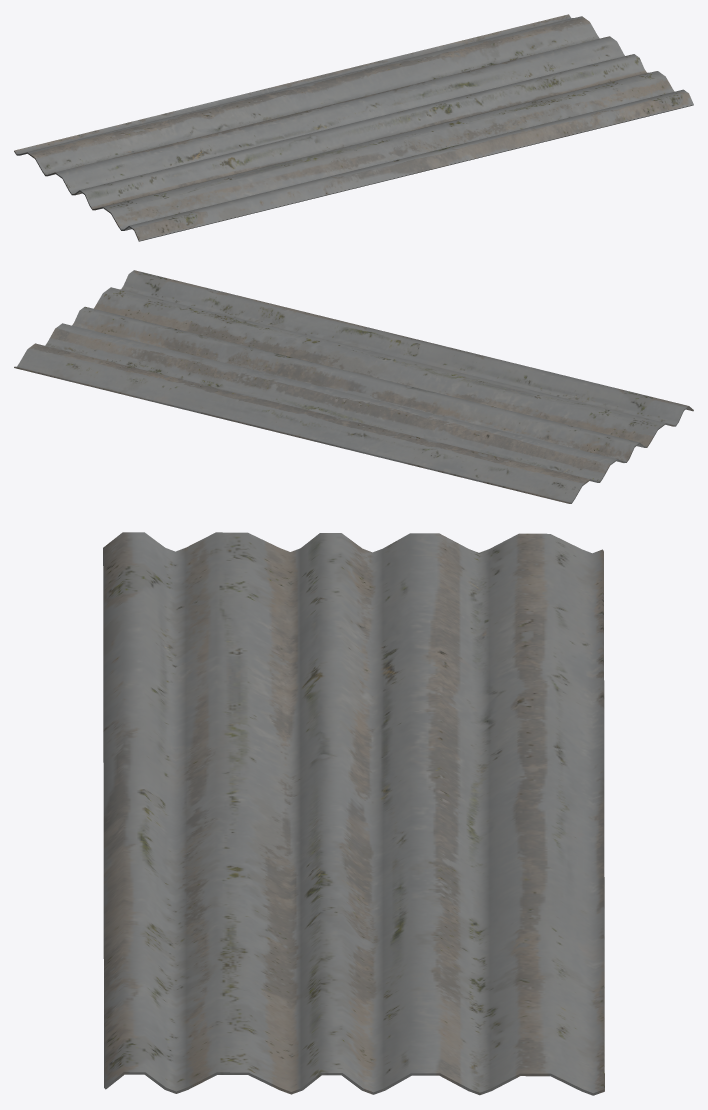
The model's file is Prop_MetalPlate_02.fbx.
3 views of the same model, one above another, from view 1: azimuth 30°, elevation 25°; view 2: azimuth 150°, elevation 25°; view 3: azimuth 270°, elevation 25° (orthographic). The views are drawn at different scales.
Parts seen in each view (by area): view 1: Prop_MetalPlate_02; view 2: Prop_MetalPlate_02; view 3: Prop_MetalPlate_02.
Part boxes in pixels (x1,y1,x2,y2): Prop_MetalPlate_02: (14,14,693,241); Prop_MetalPlate_02: (14,270,693,503); Prop_MetalPlate_02: (103,532,604,1095).
Size of the model in its own units: 110 by 2.4 by 43.21.
